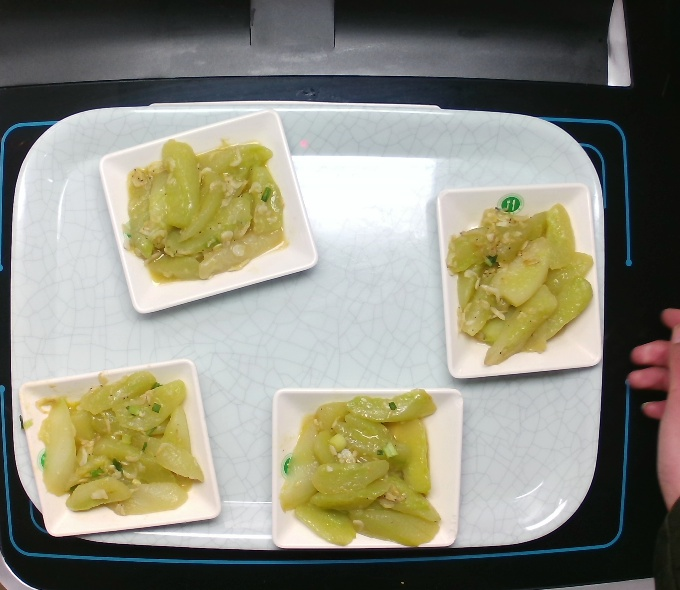wcq-HuangGua: (280, 379, 447, 558), (121, 130, 293, 286), (33, 365, 203, 522), (446, 197, 594, 365)
